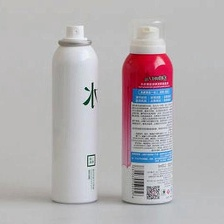aerosol_cans: (118, 16, 178, 206), (47, 21, 102, 207)
